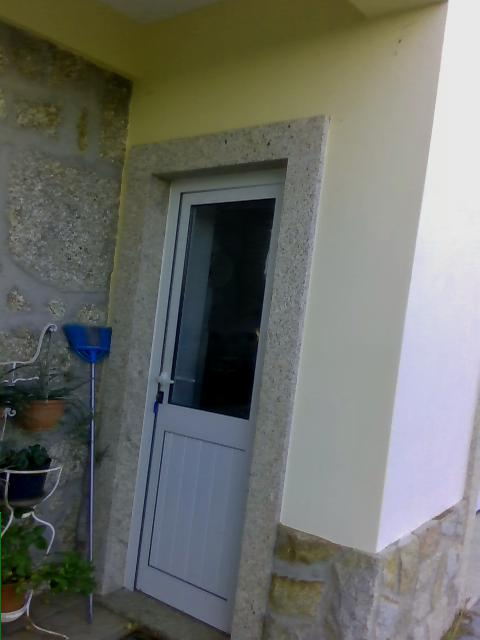closed_door: (124, 162, 283, 632)
